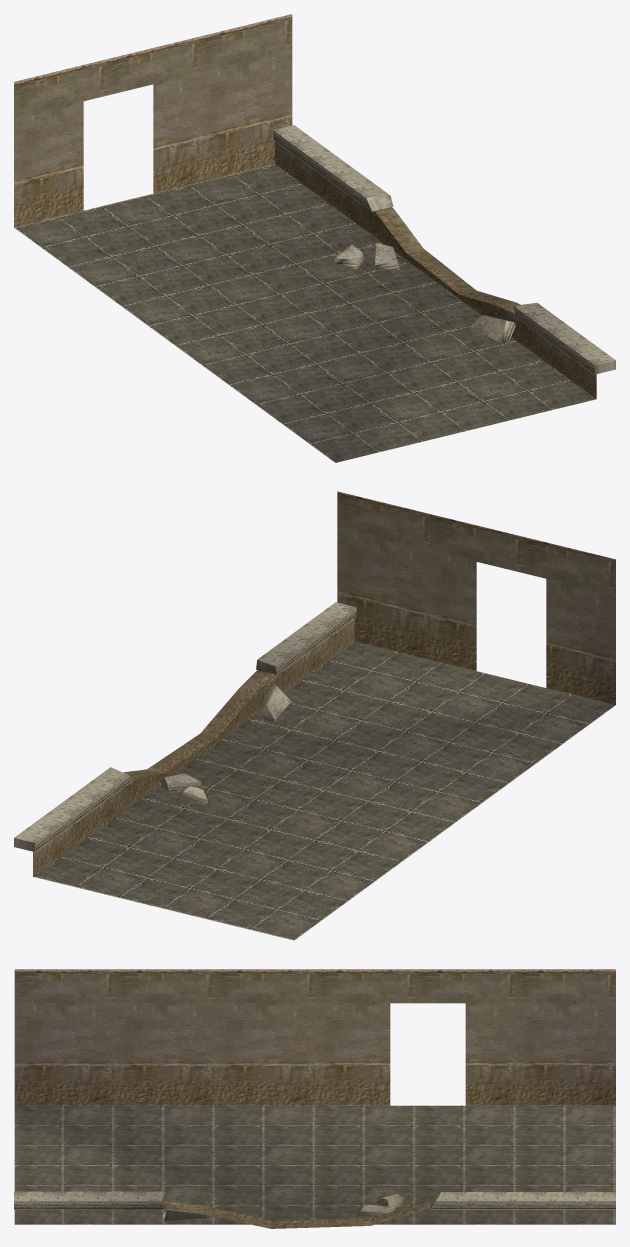
Rendered from M7Z4_Balcony.glb.
3 renders of one model, top to bottom at view 1: azimuth 30°, elevation 25°; view 2: azimuth 150°, elevation 25°; view 3: azimuth 270°, elevation 25°, orthographic. The views are drawn at different scales.
Parts seen in each view (by area): view 1: M7Z4_BALCONY; view 2: M7Z4_BALCONY; view 3: M7Z4_BALCONY.
Part boxes in pixels (left/top/right/bottom): M7Z4_BALCONY: left=14, top=14, right=615, bottom=462; M7Z4_BALCONY: left=14, top=491, right=615, bottom=940; M7Z4_BALCONY: left=14, top=969, right=615, bottom=1228.
Bounding box in the file's own units: 8.05 × 4.11 × 16.02.
Materials: 2 (2 with a texture image).
